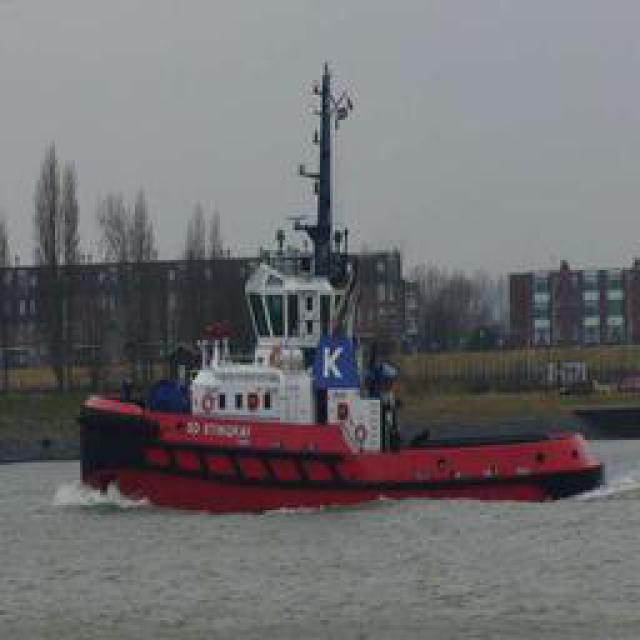Ship: (71, 350, 639, 508)
